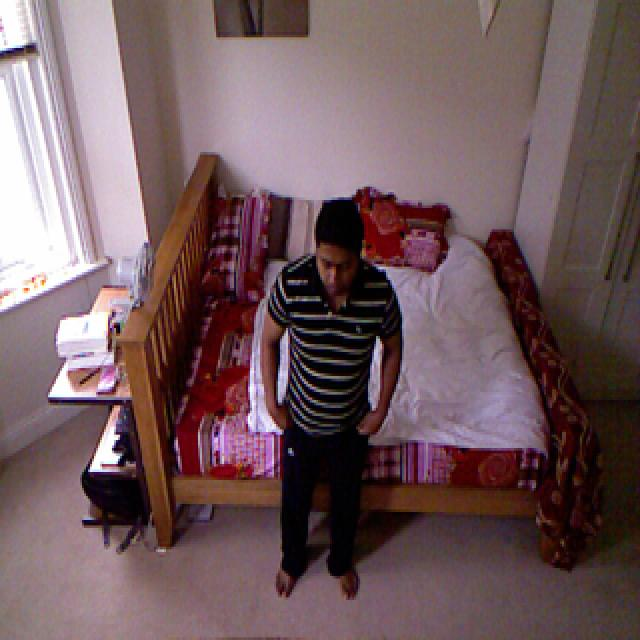standing: (266, 186, 402, 611)
